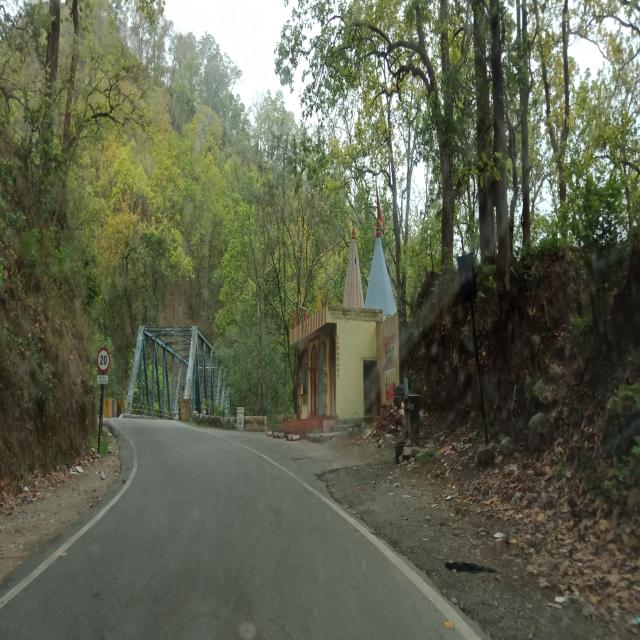forb_speed_over_20: (97, 347, 111, 374)
